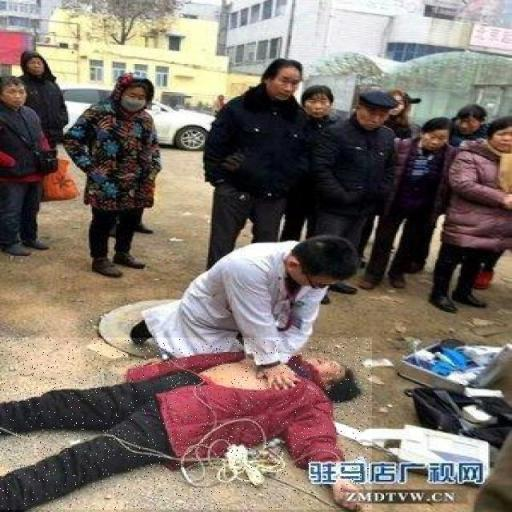Fall: (0, 338, 372, 510)
